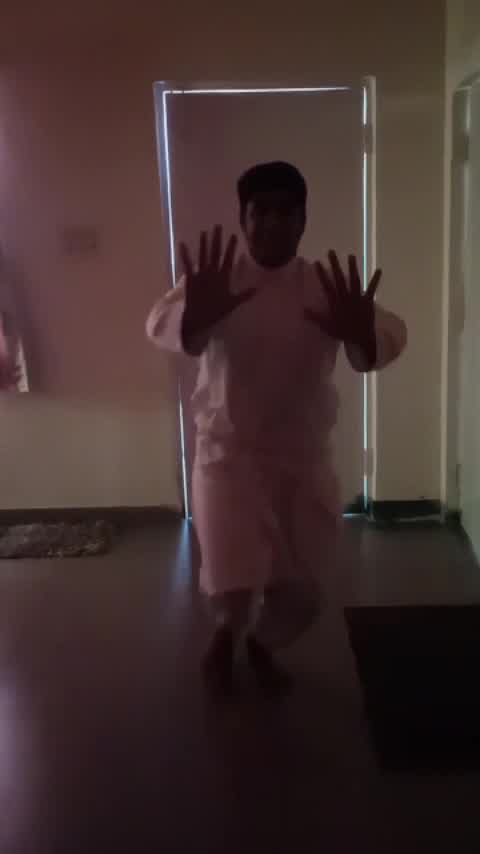duck: (132, 141, 414, 724)
